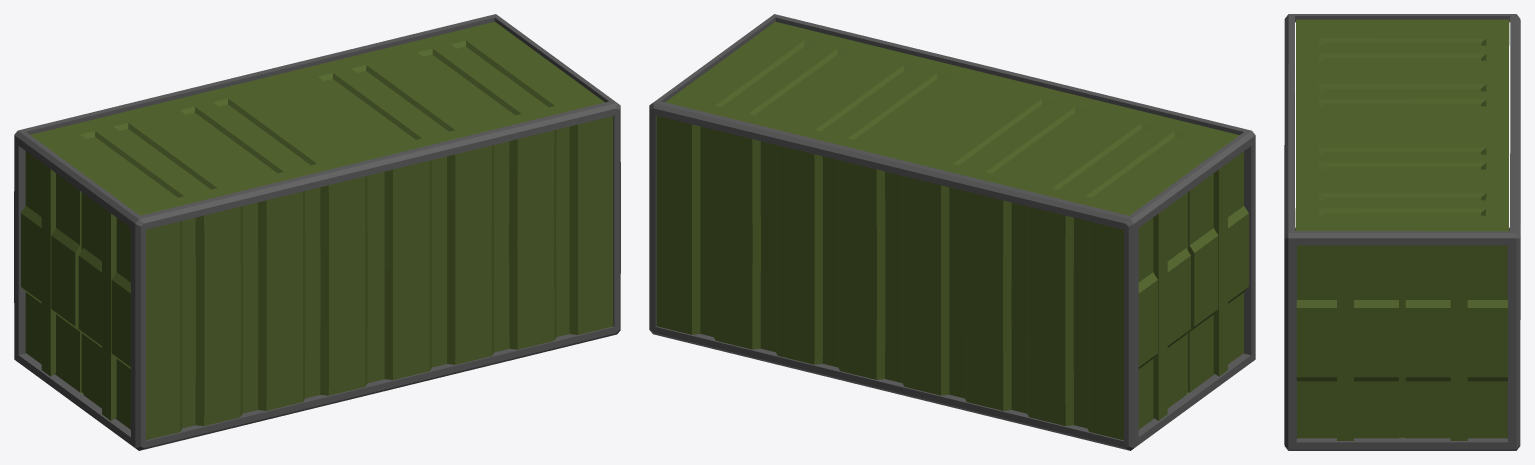
The model's file is Container Green.glb.
The picture shows the model from 3 angles, left to right: view 1: azimuth 30°, elevation 25°; view 2: azimuth 150°, elevation 25°; view 3: azimuth 270°, elevation 25°; orthographic projection. The views are drawn at different scales.
Visible parts, largest first — view 1: Container_Green; view 2: Container_Green; view 3: Container_Green.
Part boxes in pixels (<box>): Container_Green: <box>14,14,620,450</box>; Container_Green: <box>649,14,1255,450</box>; Container_Green: <box>1284,14,1520,450</box>.
Bounding box in the file's own units: 5.71 × 2.6 × 2.56.
Materials: 1 (1 with a texture image).
